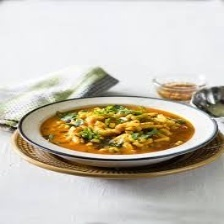sabzi: (37, 101, 199, 155)
